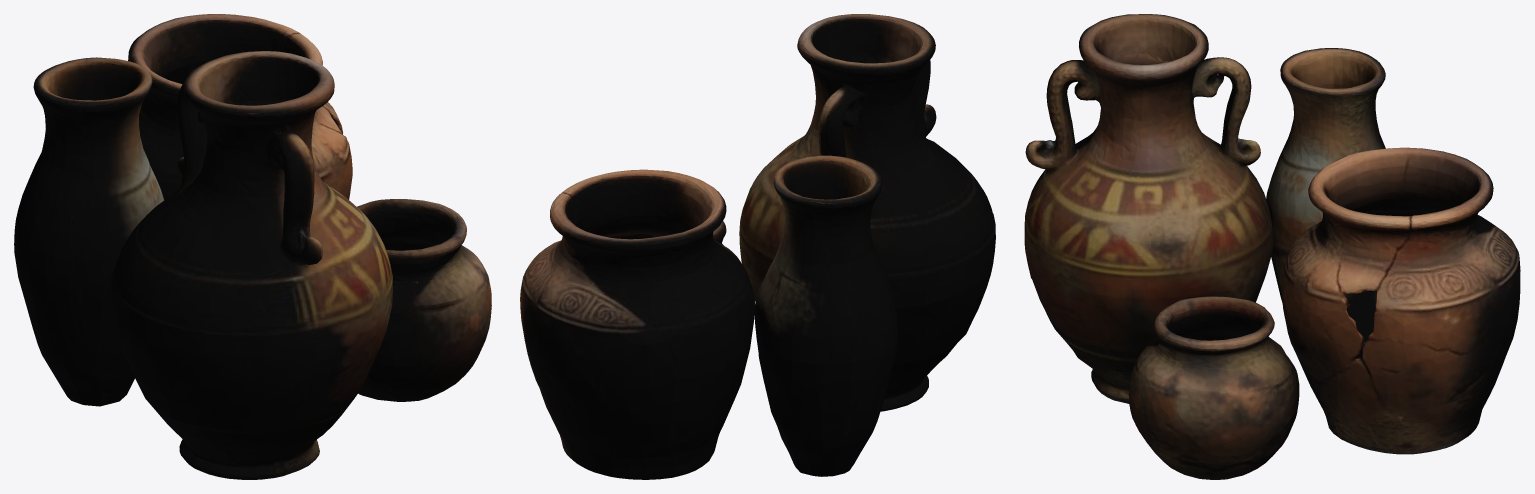
File: pots.glb
3 views of the same model, side by side, from view 1: azimuth 30°, elevation 25°; view 2: azimuth 150°, elevation 25°; view 3: azimuth 270°, elevation 25° (orthographic). The views are drawn at different scales.
Parts seen in each view (by area): view 1: world; view 2: world; view 3: world.
Part boxes in pixels (x1=…): world: x1=14, y1=14, x2=491, y2=479; world: x1=520, y1=14, x2=995, y2=479; world: x1=1024, y1=14, x2=1520, y2=479.
Size of the model in its own units: 0.8252 by 0.7659 by 0.9974.
Materials: 1 (1 with a texture image).
